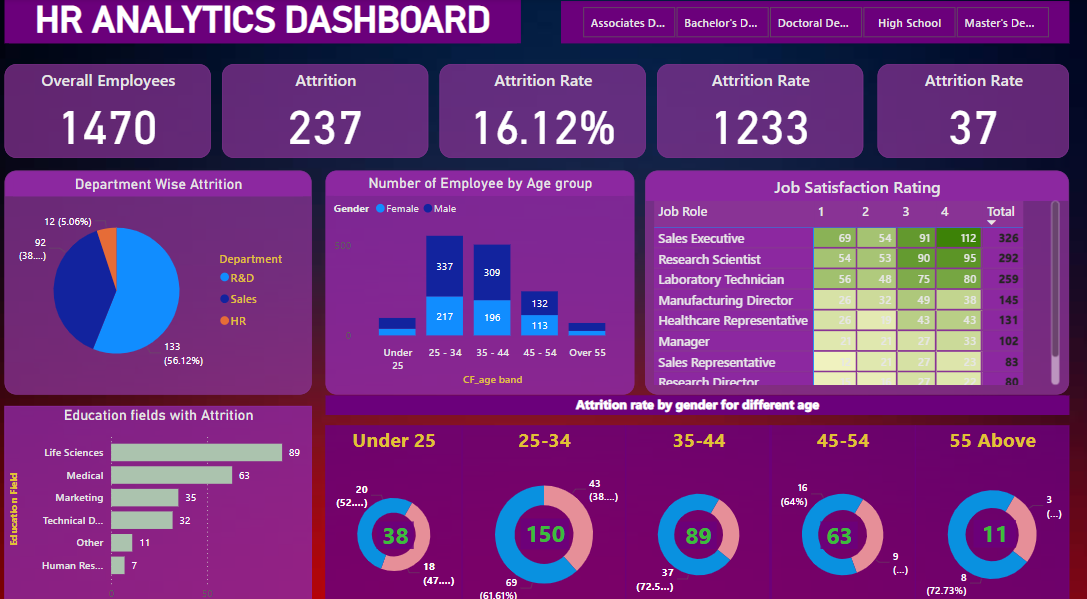

This screenshot's page, from the dashboard's own definition file:
{"tool":"powerbi","page":{"name":"Page 1","canvas":[1280,720],"ordinal":0},"visuals":[{"type":"card","title":"Overall Employees","fields":{"Values":["Sum(HR data.Employee Count)"]},"box":[15.1,77.5,240,109.6],"z":0},{"type":"card","title":"Attrition","fields":{"Values":["Sum(HR data.Attrition Count)"]},"box":[268.3,77.5,240,109.6],"z":1000},{"type":"card","title":"Attrition Rate","fields":{"Values":["HR data.Attrition Rate"]},"box":[521.6,77.5,240,109.6],"z":2000},{"type":"card","title":"Attrition Rate","fields":{"Values":["HR data.Active Employees"]},"box":[774.8,77.5,240,109.6],"z":3000},{"type":"card","title":"Attrition Rate","fields":{"Values":["Avg(HR data.Age)"]},"box":[1031.8,77.5,223,109.6],"z":4000},{"type":"pieChart","title":" Department Wise Attrition","fields":{"Category":["HR data.Department"],"Y":["Sum(HR data.Attrition Count)"]},"box":[15.1,200.3,357.2,260.8],"z":5000},{"type":"columnChart","title":"Number of Employee by Age group","fields":{"Category":["HR data.CF_age band"],"Y":["Sum(HR data.Employee Count)"],"Series":["HR data.Gender"]},"box":[389.3,200.3,359.1,260.8],"z":6000},{"type":"pivotTable","title":"Job Satisfaction Rating","fields":{"Rows":["HR data.Job Role"],"Columns":["HR data.Job Satisfaction"],"Values":["Sum(HR data.Employee Count)"]},"box":[761.6,200.3,493.2,260.8],"z":7000},{"type":"clusteredBarChart","title":"Education fields with Attrition","fields":{"Category":["HR data.Education Field"],"Y":["Sum(HR data.Attrition Count)"]},"box":[15.1,474.3,357.2,245.7],"z":8000},{"type":"donutChart","title":"Under 25","fields":{"Category":["HR data.Gender"],"Y":["Sum(HR data.Attrition Count)"],"Series":["HR data.CF_age band"]},"box":[389.3,497,158.7,223],"z":8001},{"type":"textbox","title":"Attrition rate by gender for different age","box":[389.3,463,865.5,22.7],"z":8002},{"type":"donutChart","title":"55 Above","fields":{"Category":["HR data.Gender"],"Y":["Sum(HR data.Attrition Count)"],"Series":["HR data.CF_age band"]},"box":[1075.3,497,179.5,223],"z":8003},{"type":"donutChart","title":"25-34","fields":{"Category":["HR data.Gender"],"Y":["Sum(HR data.Attrition Count)"],"Series":["HR data.CF_age band"]},"box":[548,497,190.9,223],"z":8004},{"type":"donutChart","title":"35-44","fields":{"Category":["HR data.Gender"],"Y":["Sum(HR data.Attrition Count)"],"Series":["HR data.CF_age band"]},"box":[738.9,497,170.1,223],"z":8005},{"type":"donutChart","title":"45-54","fields":{"Category":["HR data.Gender"],"Y":["Sum(HR data.Attrition Count)"],"Series":["HR data.CF_age band"]},"box":[905.2,497,170.1,223],"z":8006},{"type":"card","fields":{"Values":["Sum(HR data.Attrition Count)"]},"box":[447.9,608.5,43.5,32.1],"z":8007},{"type":"card","fields":{"Values":["Sum(HR data.Attrition Count)"]},"box":[616.1,604.7,56.7,35.9],"z":8008},{"type":"card","fields":{"Values":["Sum(HR data.Attrition Count)"]},"box":[801.3,608.5,43.5,32.1],"z":8009},{"type":"card","fields":{"Values":["Sum(HR data.Attrition Count)"]},"box":[965.7,608.5,43.5,32.1],"z":8010},{"type":"card","fields":{"Values":["Sum(HR data.Attrition Count)"]},"box":[1143.3,606.6,49.1,32.1],"z":8011},{"type":"textbox","title":"HR ANALYTICS DASHBOARD","box":[15.1,0,600.9,52.9],"z":8012},{"type":"slicer","fields":{"Values":["HR data.Education"]},"box":[663.3,3.8,591.5,49.1],"z":8013}]}

Visuals, with their boxes in screenshot pixels (x1, y1, x2, y2), scaled from the page's 1280x720 canvas onto the 1087x599 screenshot:
"Overall Employees" card: 13:64:217:156
"Attrition" card: 228:64:432:156
"Attrition Rate" card: 443:64:647:156
"Attrition Rate" card: 658:64:862:156
"Attrition Rate" card: 876:64:1066:156
" Department Wise Attrition" pieChart: 13:167:316:384
"Number of Employee by Age group" columnChart: 331:167:636:384
"Job Satisfaction Rating" pivotTable: 647:167:1066:384
"Education fields with Attrition" clusteredBarChart: 13:395:316:598
"Under 25" donutChart: 331:413:465:598
"Attrition rate by gender for different age" textbox: 331:385:1066:404
"55 Above" donutChart: 913:413:1066:598
"25-34" donutChart: 465:413:627:598
"35-44" donutChart: 627:413:772:598
"45-54" donutChart: 769:413:913:598
card - Sum(HR data.Attrition Count): 380:506:417:533
card - Sum(HR data.Attrition Count): 523:503:571:533
card - Sum(HR data.Attrition Count): 680:506:717:533
card - Sum(HR data.Attrition Count): 820:506:857:533
card - Sum(HR data.Attrition Count): 971:505:1013:531
"HR ANALYTICS DASHBOARD" textbox: 13:0:523:44
slicer - HR data.Education: 563:3:1066:44
